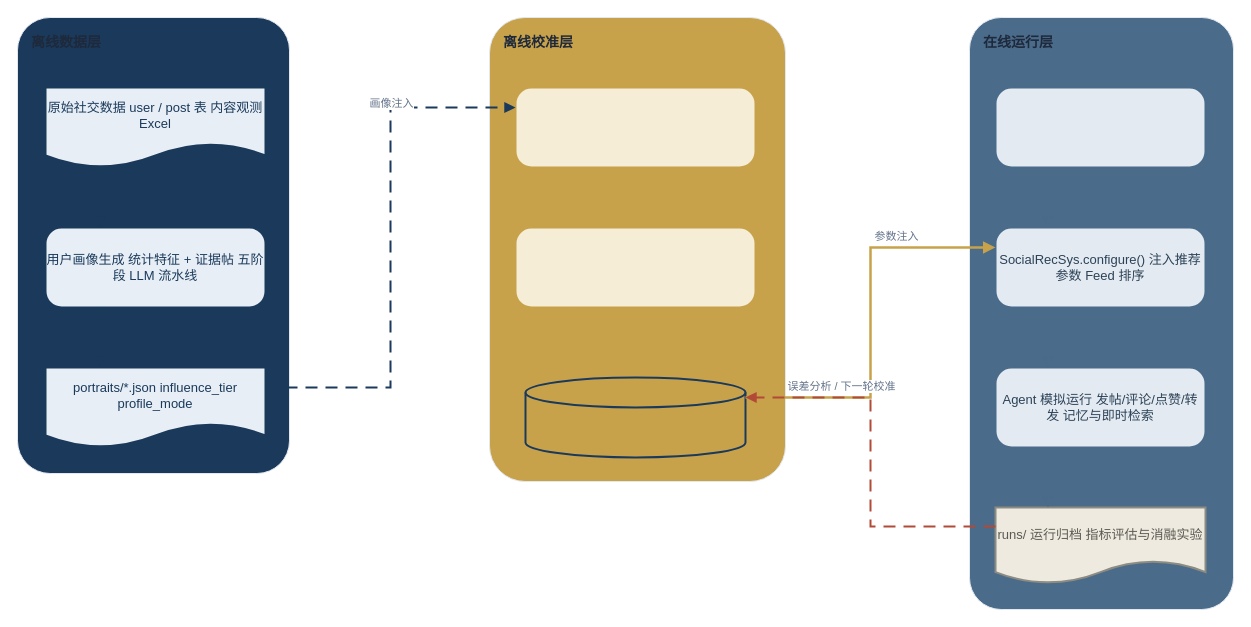
The diagram is 1251 pixels wide and 627 high, and some of its shapes have lost their labels. Each missing label, with the box of its shape:
calibration_profile.yaml 单一配置中枢: (524, 376, 746, 458)
main.py 双进程启动 Backend + Agent: (994, 86, 1206, 168)
向量化 ABM + EM/Optuna 四维推荐权重 decay_lambda: (514, 226, 756, 308)
语义处理与种群合成 Kernel PCA 立场轴 Zipf 影响力分布扩展: (514, 86, 756, 168)
